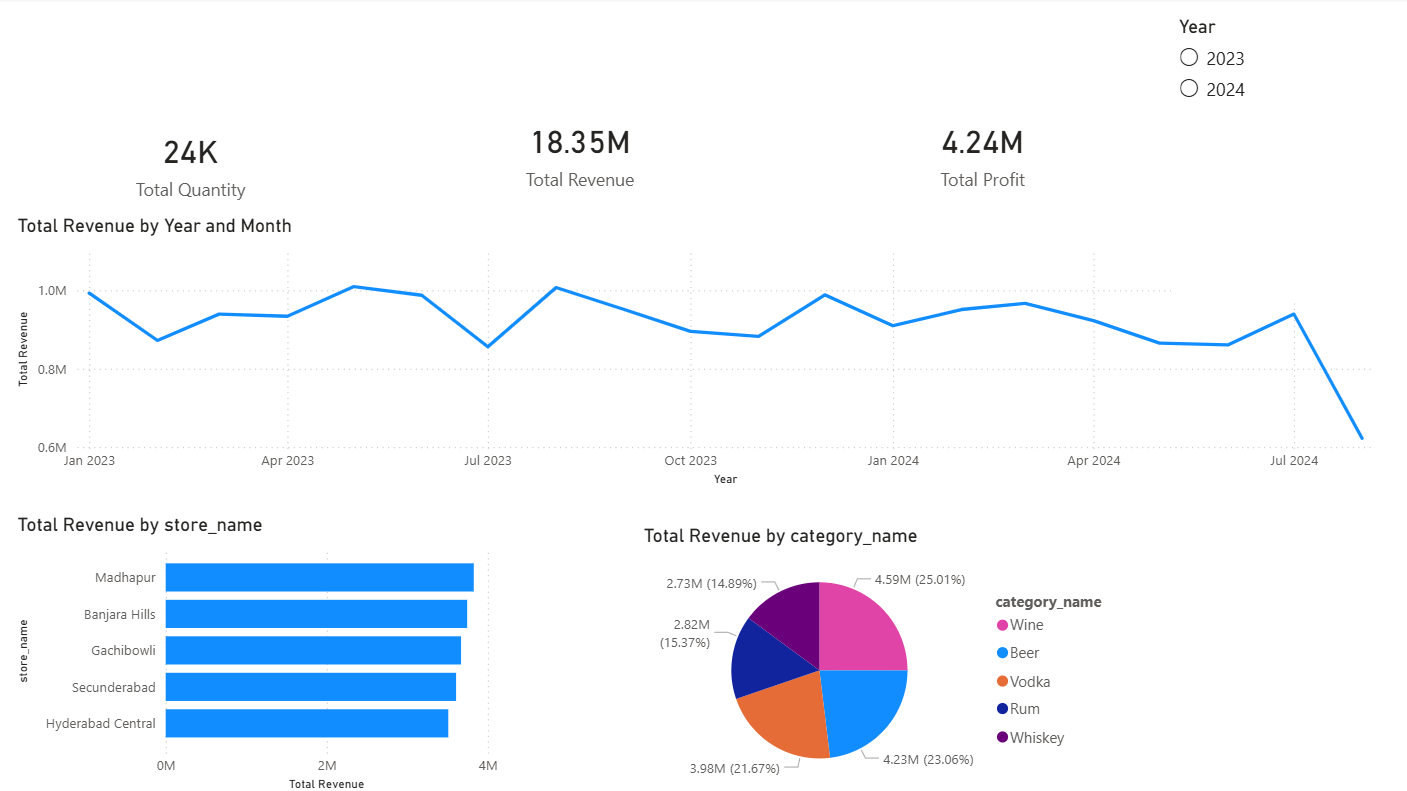

The page's visual inventory and layout, read from the dashboard file:
{"tool":"powerbi","page":{"name":"Retail_sales","canvas":[1280,720],"ordinal":0},"visuals":[{"type":"card","fields":{"Values":["retail_analysis sales.Total Revenue"]},"box":[336.2,0,380.1,279.9],"z":0},{"type":"card","fields":{"Values":["retail_analysis sales.Total Profit"]},"box":[716.3,0,344.4,279.9],"z":1000},{"type":"card","fields":{"Values":["retail_analysis sales.Total Quantity"]},"box":[13.7,16.5,322.5,263.5],"z":2000},{"type":"clusteredBarChart","fields":{"Category":["retail_analysis stores.store_name"],"Y":["retail_analysis sales.Total Revenue"]},"box":[13.7,465.2,443.2,255.2],"z":3000},{"type":"lineChart","fields":{"Y":["retail_analysis sales.Total Revenue"],"Category":["retail_analysis sales.sale_date.Variation.Date Hierarchy.Year","retail_analysis sales.sale_date.Variation.Date Hierarchy.Month"]},"box":[13.7,196.2,1244.6,249.7],"z":4000},{"type":"pieChart","fields":{"Category":["retail_analysis categories.category_name"],"Y":["retail_analysis sales.Total Revenue"]},"box":[577.7,476.2,439.1,244.3],"z":5000},{"type":"listSlicer","fields":{"Values":["retail_analysis sales.sale_date.Variation.Date Hierarchy.Year"]},"box":[1060.7,16.5,219.6,256.6],"z":6000}]}

Visuals, with their boxes in screenshot pixels (x1, y1, x2, y2), scaled from the page's 1280x720 canvas onto the 1407x791 screenshot:
card - retail_analysis sales.Total Revenue: x1=370, y1=0, x2=787, y2=308
card - retail_analysis sales.Total Profit: x1=787, y1=0, x2=1166, y2=308
card - retail_analysis sales.Total Quantity: x1=15, y1=18, x2=370, y2=308
clusteredBarChart - retail_analysis stores.store_name x retail_analysis sales.Total Revenue: x1=15, y1=511, x2=502, y2=790
lineChart - retail_analysis sales.Total Revenue x retail_analysis sales.sale_date.Variation.Date Hierarchy.Year: x1=15, y1=216, x2=1383, y2=490
pieChart - retail_analysis categories.category_name x retail_analysis sales.Total Revenue: x1=635, y1=523, x2=1118, y2=790
listSlicer - retail_analysis sales.sale_date.Variation.Date Hierarchy.Year: x1=1166, y1=18, x2=1406, y2=300
